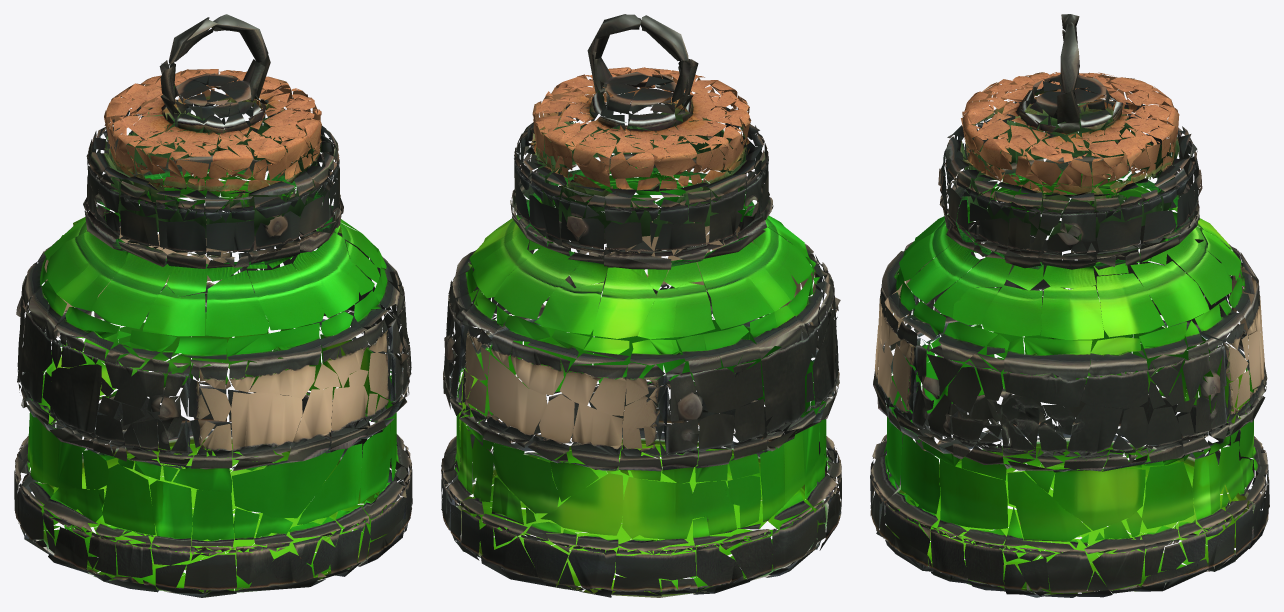
Rendered from cleaned-model.glb.
3 renders of one model, left to right at view 1: azimuth 30°, elevation 25°; view 2: azimuth 150°, elevation 25°; view 3: azimuth 270°, elevation 25°, orthographic.
Parts seen in each view (by area): view 1: Mesh_0; view 2: Mesh_0; view 3: Mesh_0.
Boxes of the visible parts, left/top/right/bottom form: Mesh_0: left=14, top=14, right=412, bottom=597; Mesh_0: left=441, top=14, right=841, bottom=597; Mesh_0: left=870, top=14, right=1269, bottom=597.
Size of the model in its own units: 0.1301 by 0.1804 by 0.1301.
Materials: 1 (1 with a texture image).
